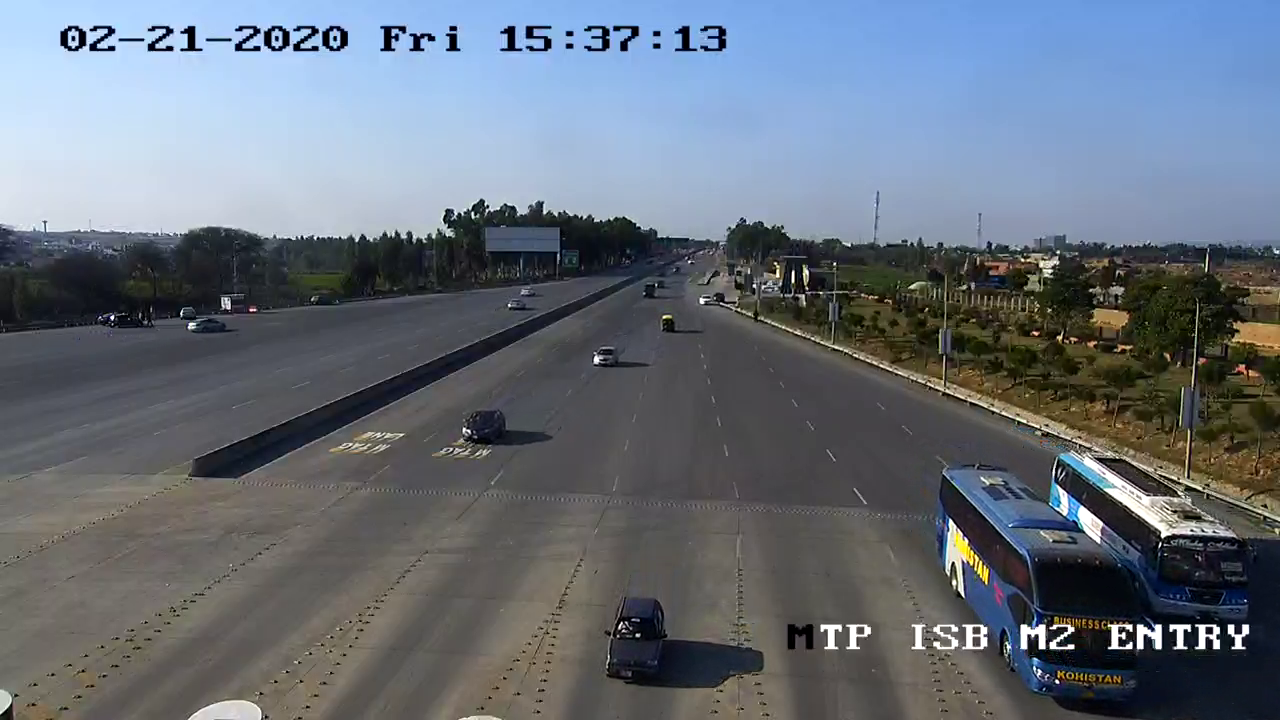f1: (589, 589, 679, 689), (446, 406, 512, 455)
